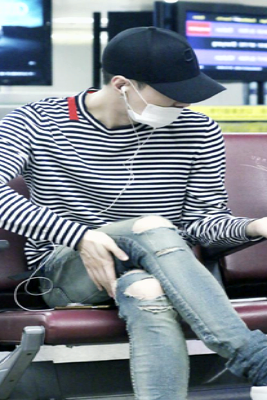mask_weared_incorrect: (127, 84, 189, 131)
